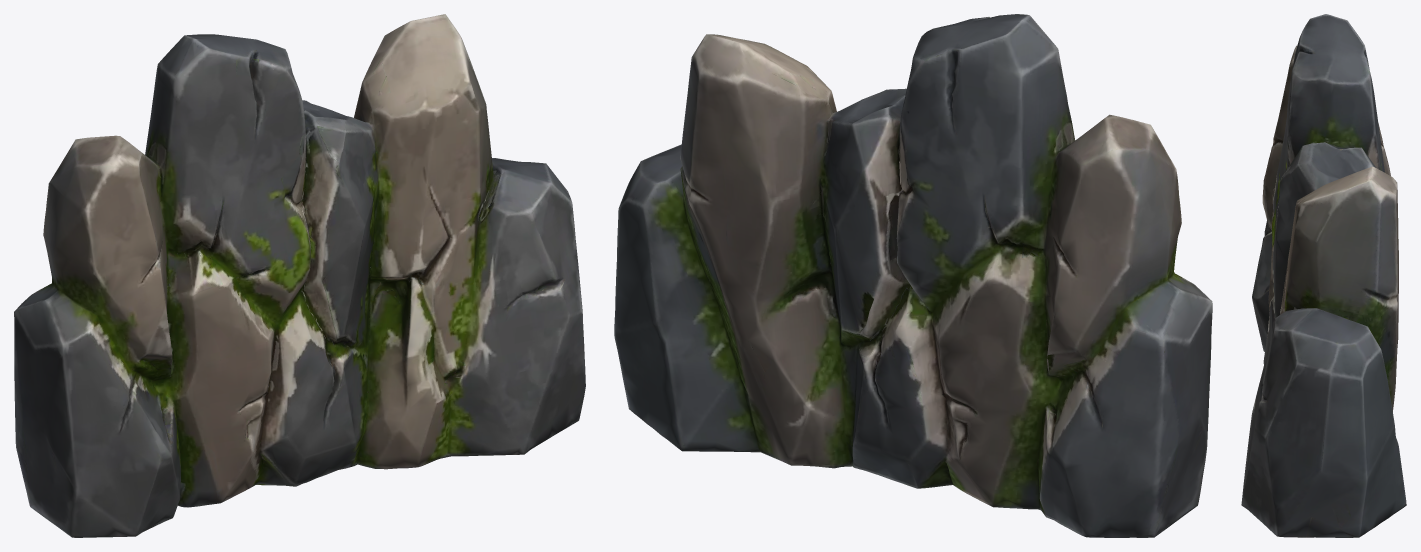
Rendered from rocks_large.glb.
3 renders of one model, left to right at view 1: azimuth 30°, elevation 25°; view 2: azimuth 150°, elevation 25°; view 3: azimuth 270°, elevation 25°, orthographic. The views are drawn at different scales.
Parts seen in each view (by area): view 1: Mesh1.0; view 2: Mesh1.0; view 3: Mesh1.0.
Boxes of the visible parts, box(x1,y1,x2,y2) form: Mesh1.0: box(14, 14, 585, 537); Mesh1.0: box(614, 14, 1212, 537); Mesh1.0: box(1241, 14, 1406, 537).
Bounding box in the file's own units: 1.91 × 1.52 × 0.6043.
1 material, 1 textured.
